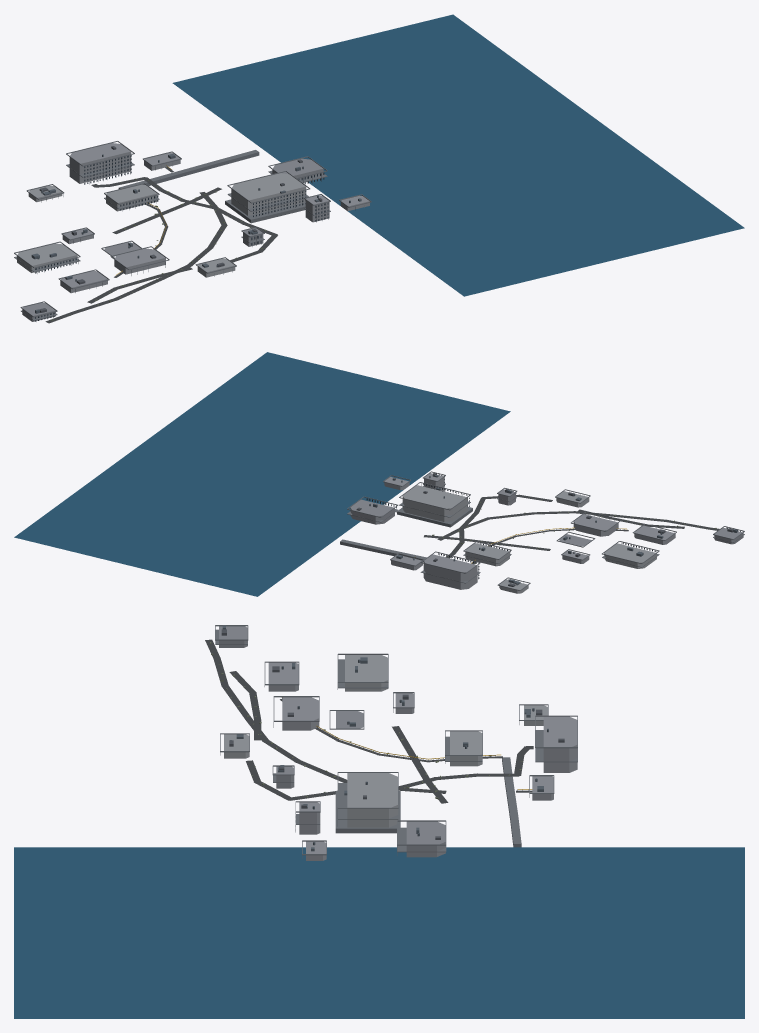
The model's file is facility-v3.glb.
The picture shows the model from 3 angles, top to bottom: view 1: azimuth 30°, elevation 25°; view 2: azimuth 150°, elevation 25°; view 3: azimuth 270°, elevation 25°; orthographic projection. The views are drawn at different scales.
Size of the model in its own units: 1123 by 43.55 by 900.
